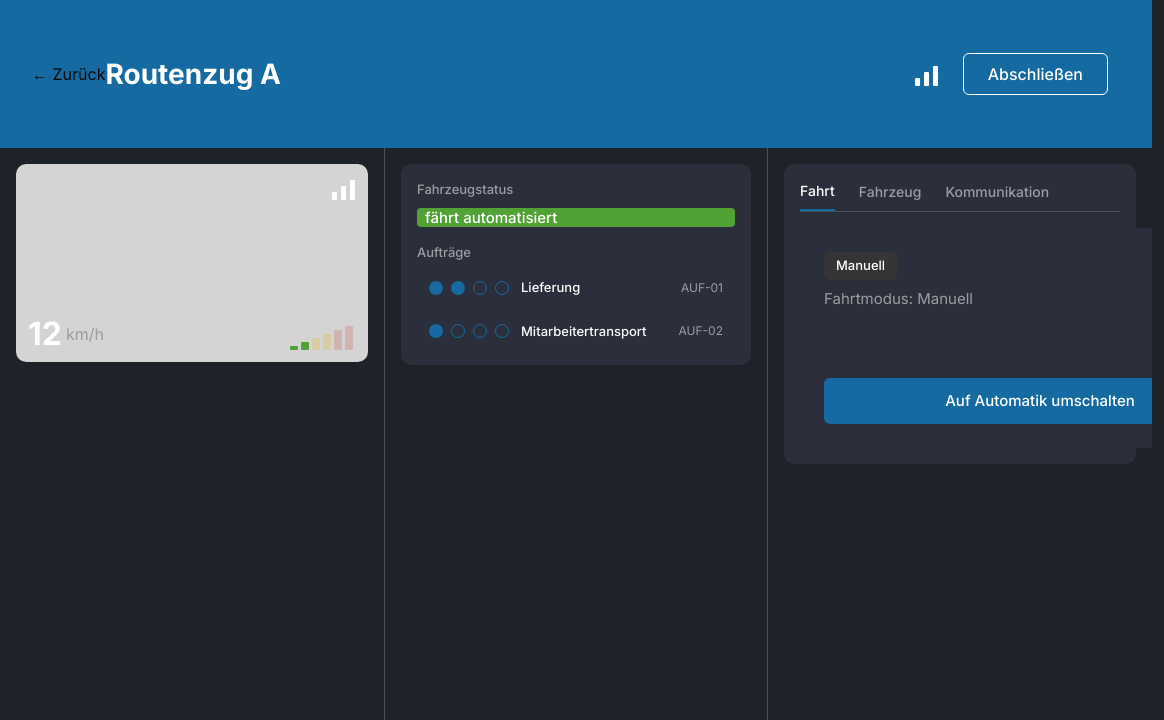
Scenario: RZ-02 — RoutenzugDetailPage — Abschließen-Bestätigung › Klick auf 'Abschließen' zeigt Bestätigungs-Banner
Click the button "Abschließen" at (1035, 74), box [963,53,1108,95]
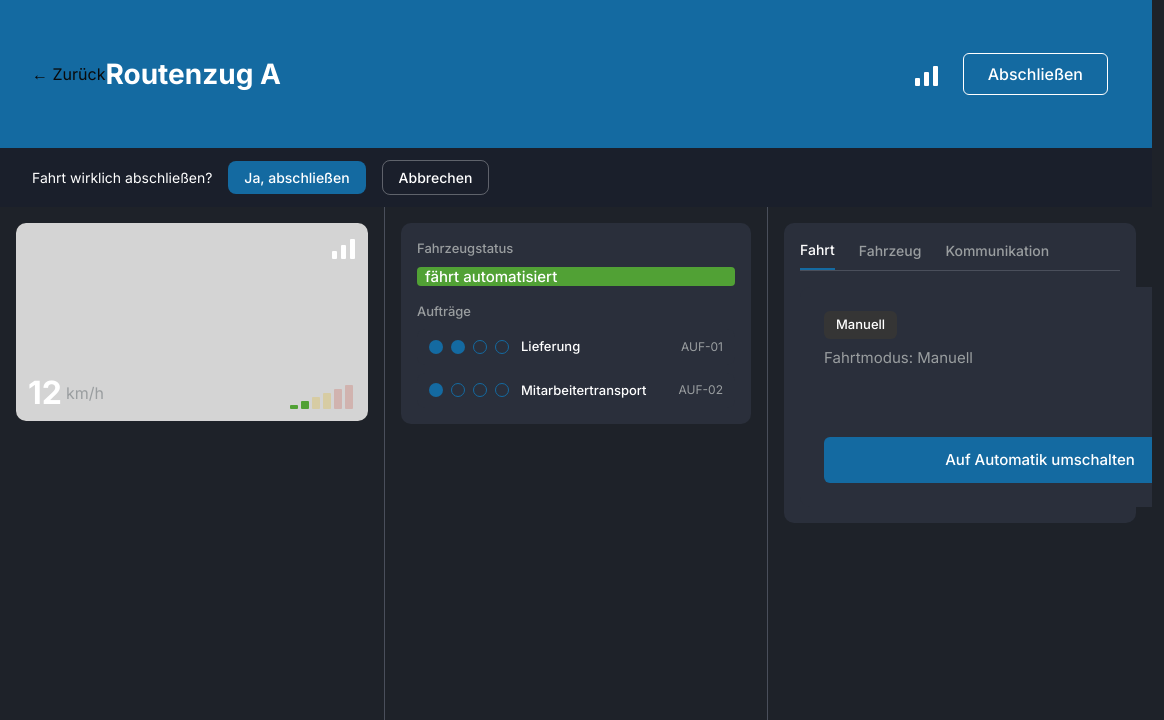
Now the text "Fahrt wirklich abschließen?" is shown, box [32,167,212,188]
